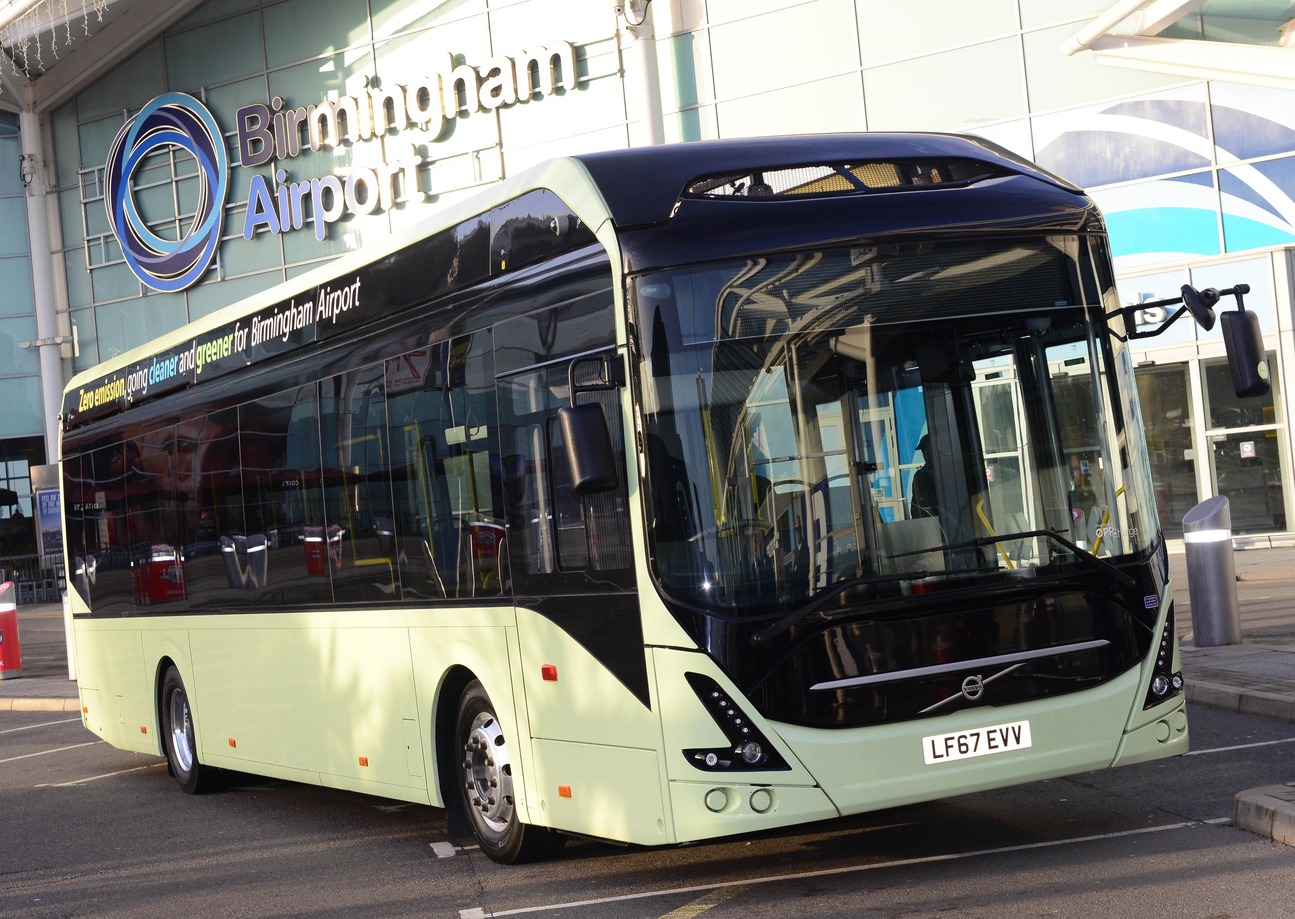Bus: (51, 132, 1190, 866)
